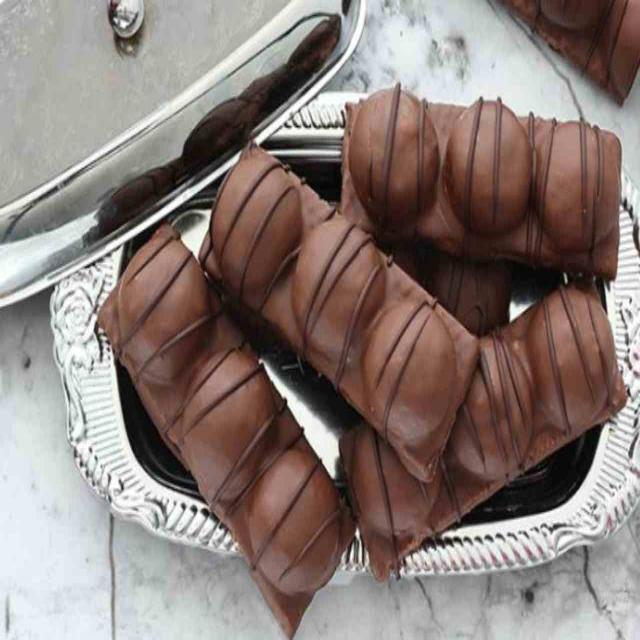Chocolate bar packaged: (93, 225, 357, 640), (200, 138, 485, 486), (339, 287, 631, 569), (338, 88, 626, 282)
